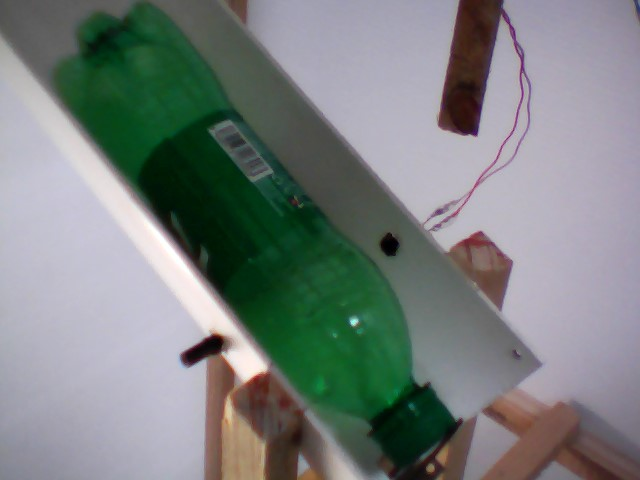plastico: (43, 2, 462, 470)
